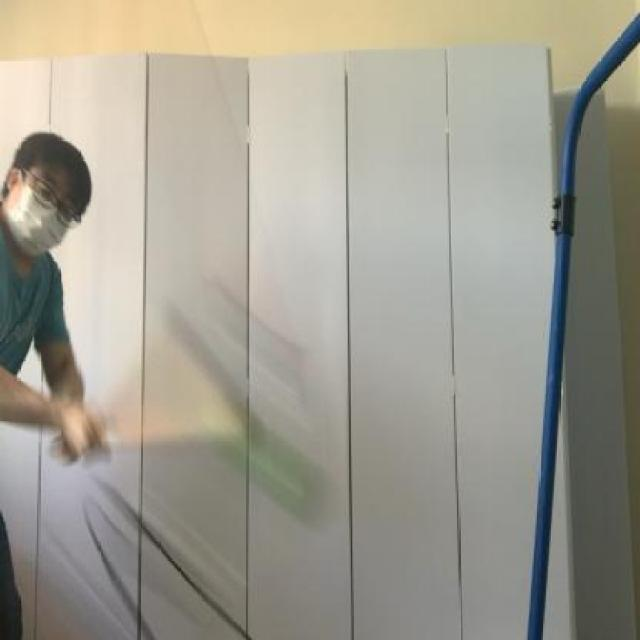baseball: (222, 394, 329, 523)
